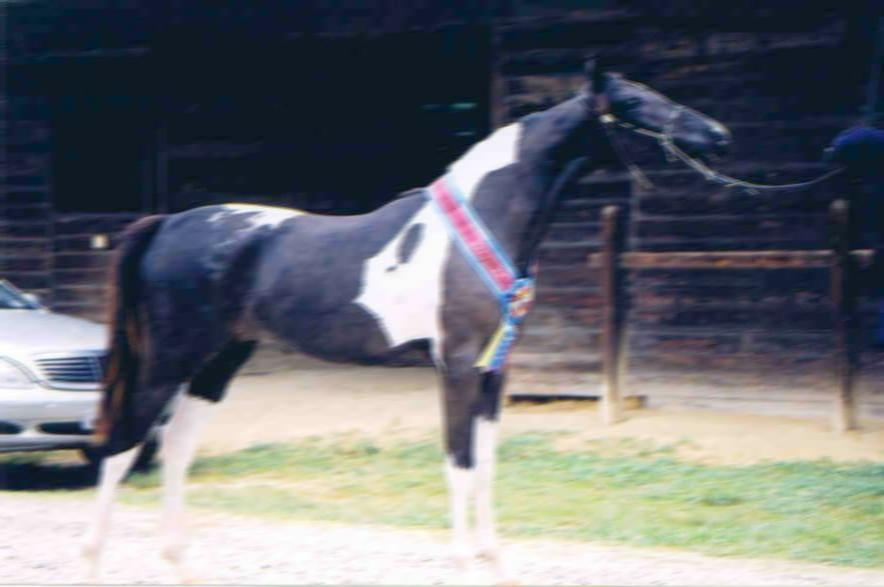horse: (77, 55, 733, 583)
